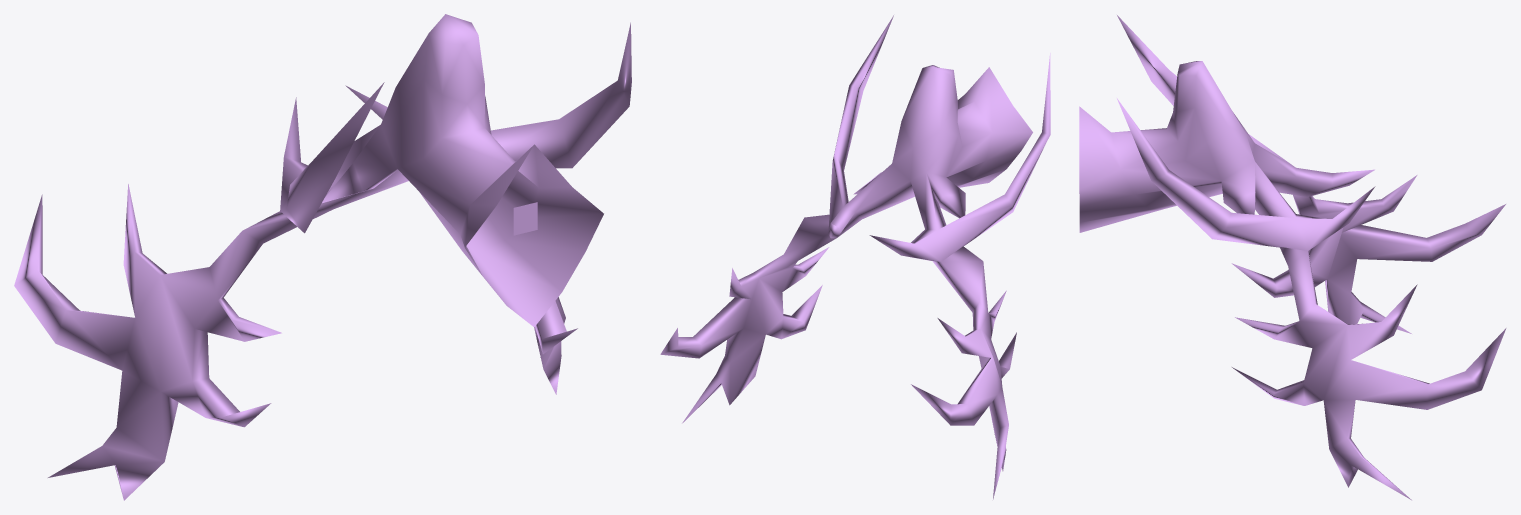
3 views of the same model, side by side, from view 1: azimuth 30°, elevation 25°; view 2: azimuth 150°, elevation 25°; view 3: azimuth 270°, elevation 25° (orthographic). The views are drawn at different scales.
Visible parts, largest first — view 1: Object03; view 2: Object03; view 3: Object03.
Boxes of the visible parts, x1=… form: Object03: x1=14, y1=14, x2=631, y2=500; Object03: x1=660, y1=15, x2=1050, y2=499; Object03: x1=1079, y1=15, x2=1506, y2=500.
Size of the model in its own units: 17846 by 18094 by 19350.
